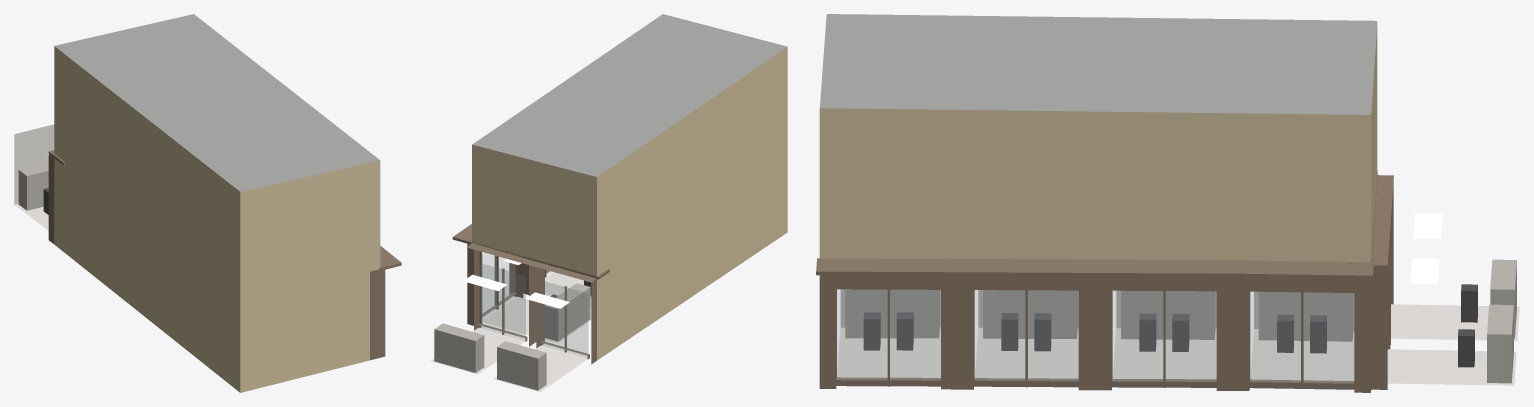
File: d12-nonbei-w138670882-row.glb
3 views of the same model, side by side, from view 1: azimuth 30°, elevation 25°; view 2: azimuth 150°, elevation 25°; view 3: azimuth 270°, elevation 25° (orthographic). The views are drawn at different scales.
Parts seen in each view (by area): view 1: INFERRED_ground.001; view 2: INFERRED_ground.001; view 3: INFERRED_ground.001.
Part boxes in pixels (x1=…): INFERRED_ground.001: x1=14, y1=14, x2=401, y2=392; INFERRED_ground.001: x1=430, y1=14, x2=787, y2=392; INFERRED_ground.001: x1=816, y1=14, x2=1519, y2=392.
Bounding box in the file's own units: 4.95 × 5.67 × 12.81.
3 materials, 1 textured.
